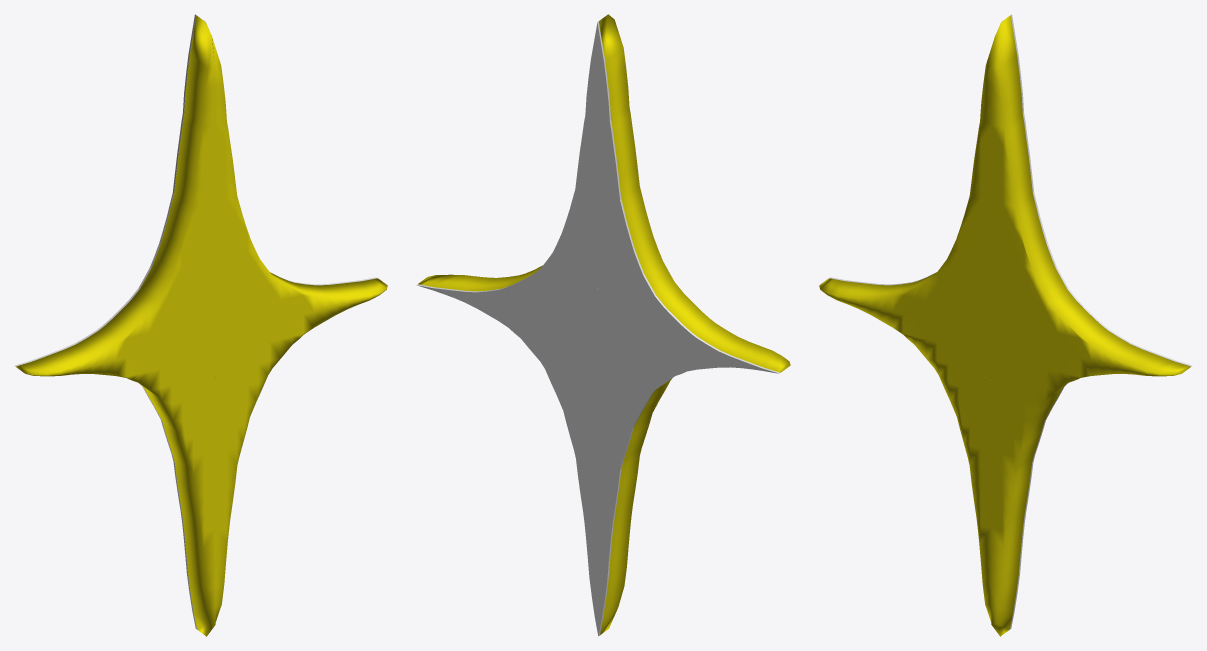
File: star.glb
3 renders of one model, left to right at view 1: azimuth 30°, elevation 25°; view 2: azimuth 150°, elevation 25°; view 3: azimuth 330°, elevation 25°, orthographic.
Parts seen in each view (by area): view 1: 平面, 平面.001; view 2: 平面.001, 平面; view 3: 平面, 平面.001.
Boxes of the visible parts, box(x1,y1,x2,y2) form: 平面: box(16, 15, 387, 636); 平面.001: box(14, 14, 377, 629); 平面.001: box(416, 21, 780, 636); 平面: box(418, 14, 790, 635); 平面: box(819, 15, 1190, 636); 平面.001: box(829, 14, 1192, 629).
Size of the model in its own units: 2.45 by 3.97 by 0.2413.
